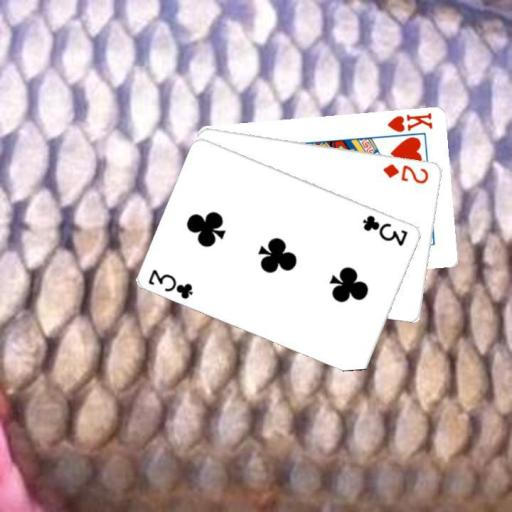2D: (380, 161, 430, 185)
3C: (360, 211, 410, 248), (145, 266, 195, 301)
KH: (385, 109, 434, 134)
